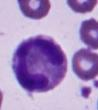E: (11, 33, 68, 94)
